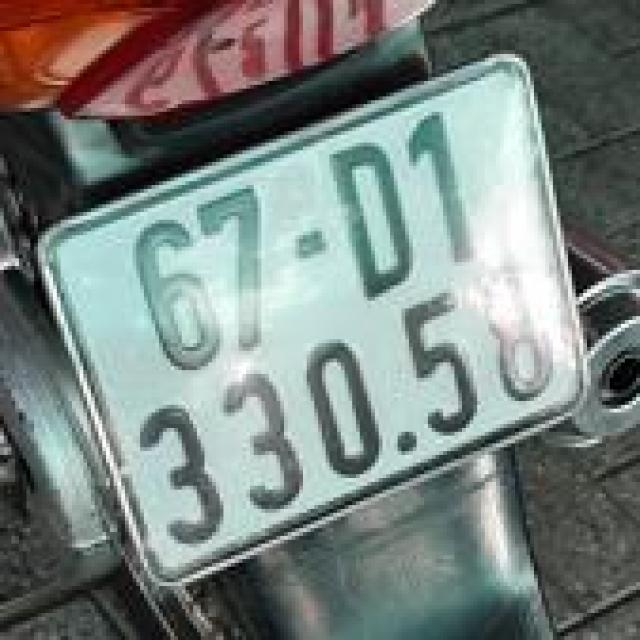0: (293, 329, 397, 490)
1: (397, 102, 486, 280)
3: (121, 391, 237, 559), (208, 358, 318, 526)
5: (385, 280, 493, 447)
6: (117, 205, 234, 388)
7: (188, 173, 297, 359)
8: (475, 250, 566, 413)
D: (316, 127, 428, 315)
